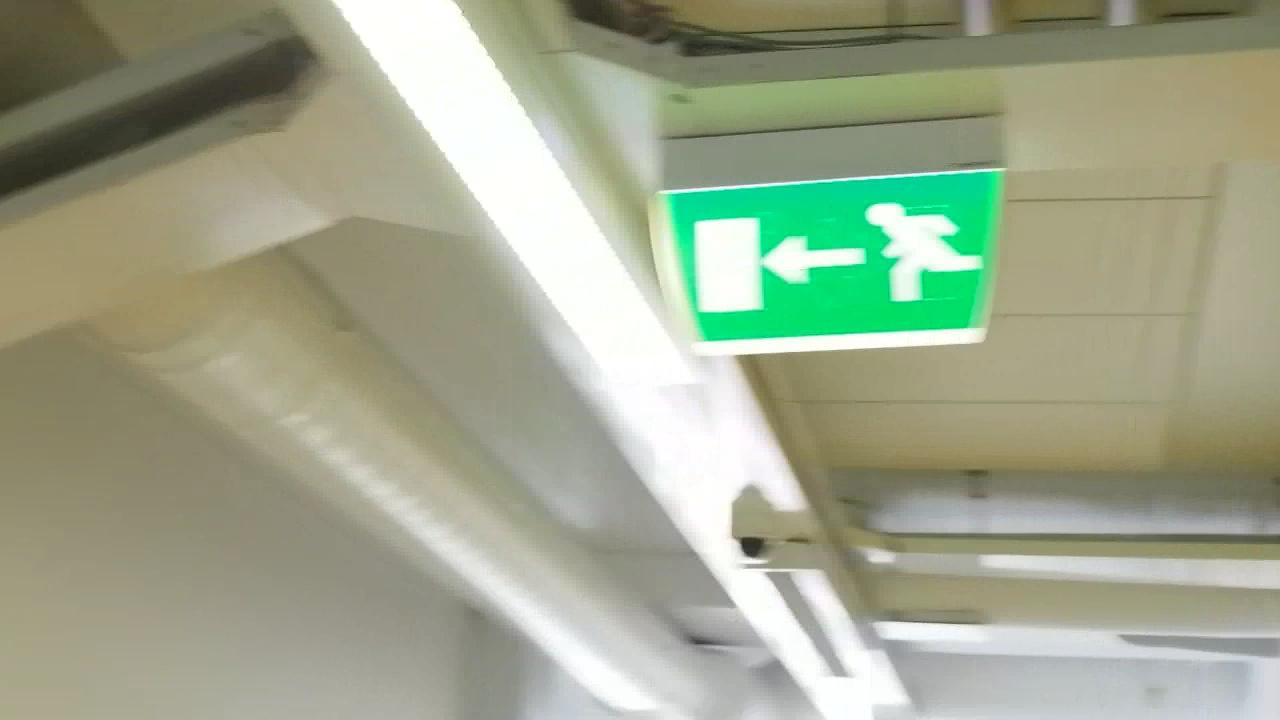exit: (674, 169, 1021, 353)
